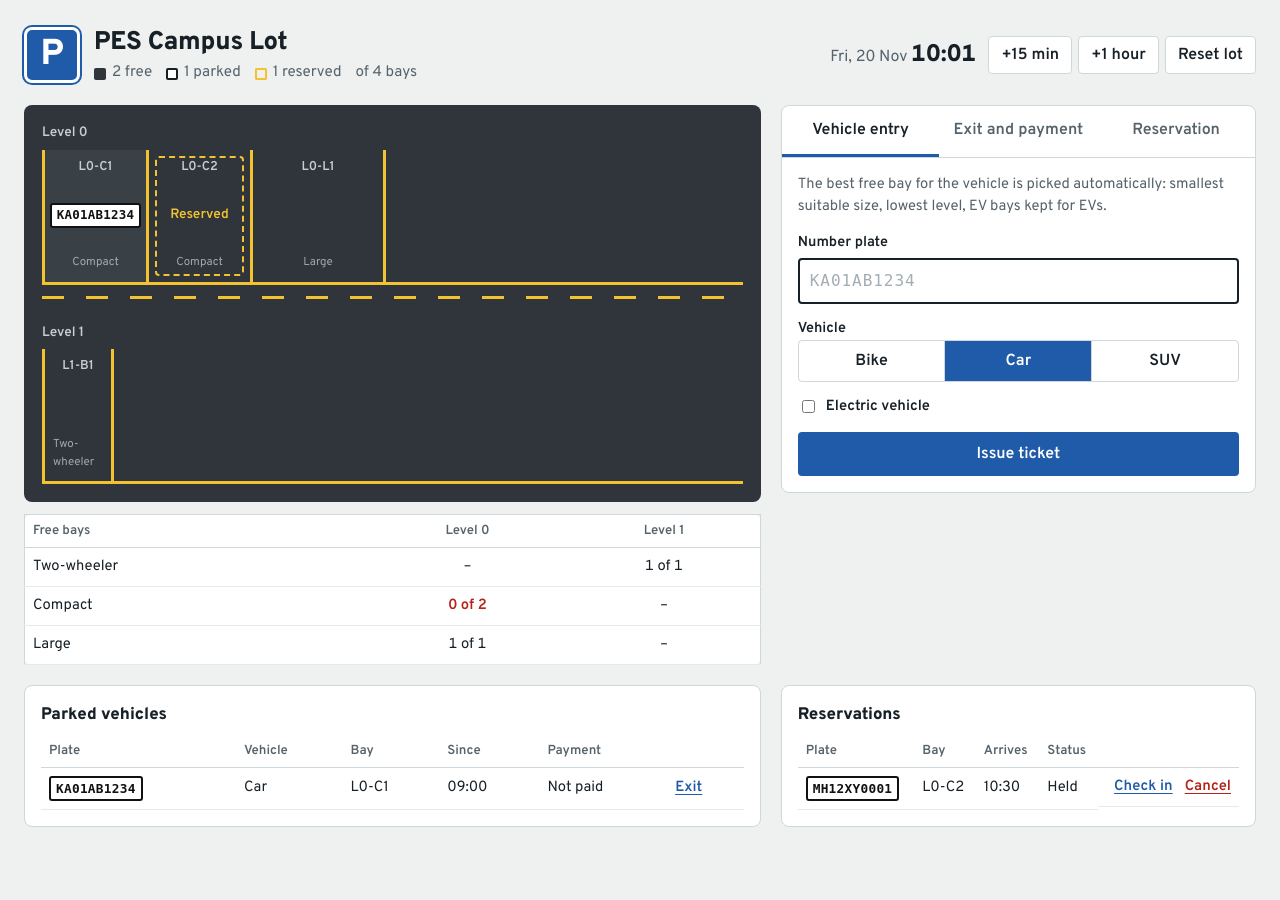
Test case: App › checks the fee, takes payment and opens the gate
The width and height of the screenshot is (1280, 900).
Step 1. Click the button with aria-label "L0-C1, Compact: occupied by KA01AB1234" → [94, 216], box [42,150,146,282]
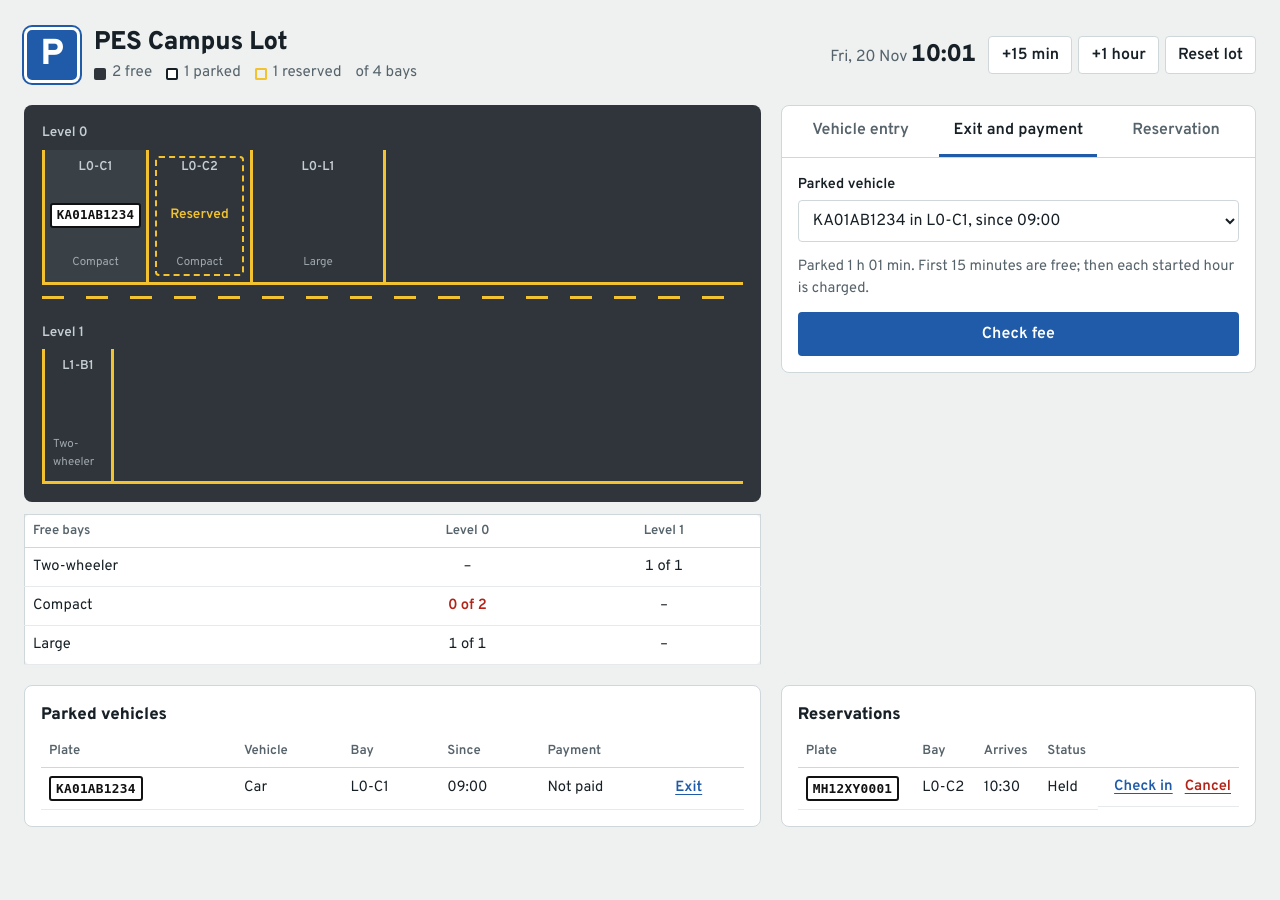
Step 2. Click the button "Check fee" → [1018, 334], box [798,312,1239,356]
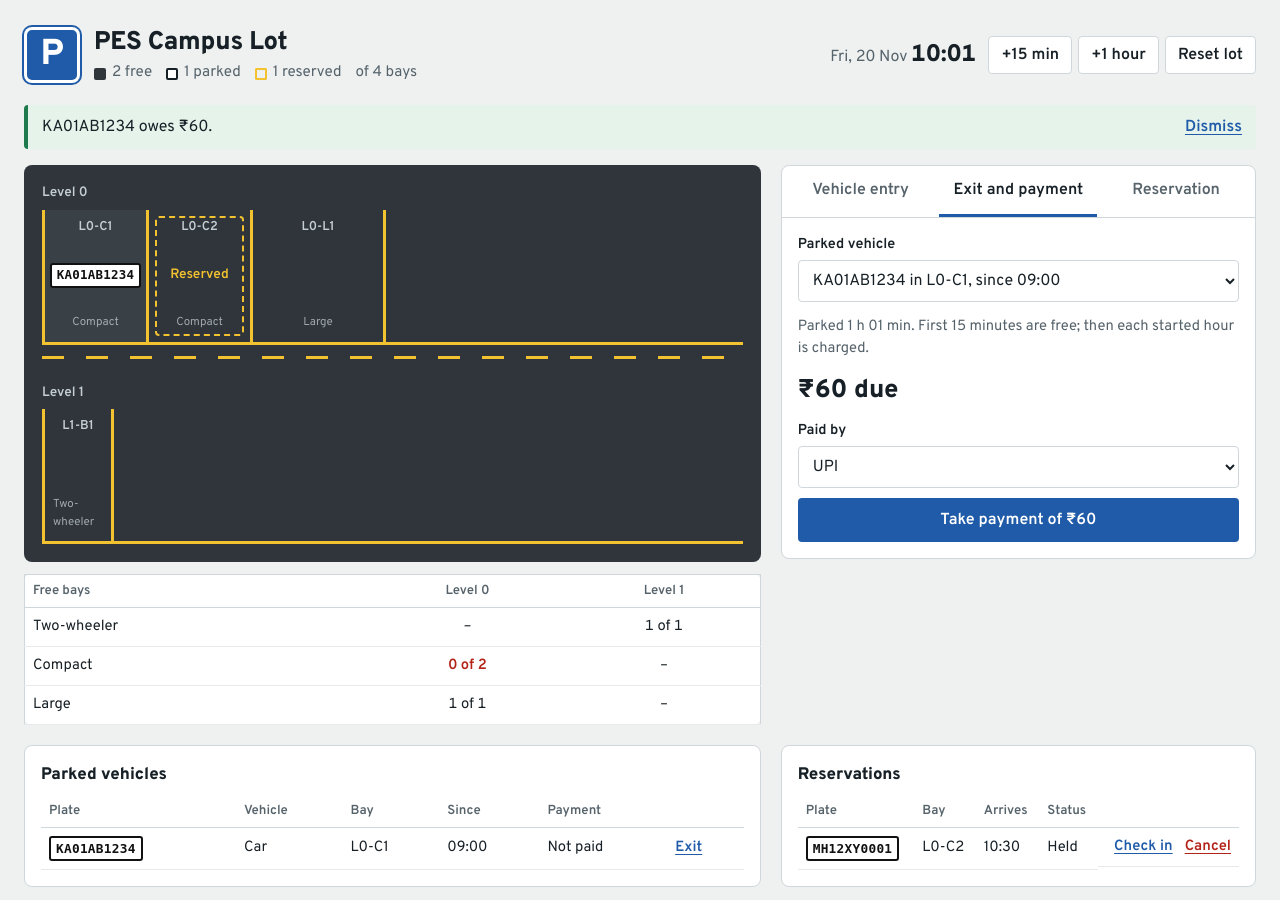
Step 3. Click the button "Take payment of ₹60" → [1018, 520], box [798,498,1239,542]
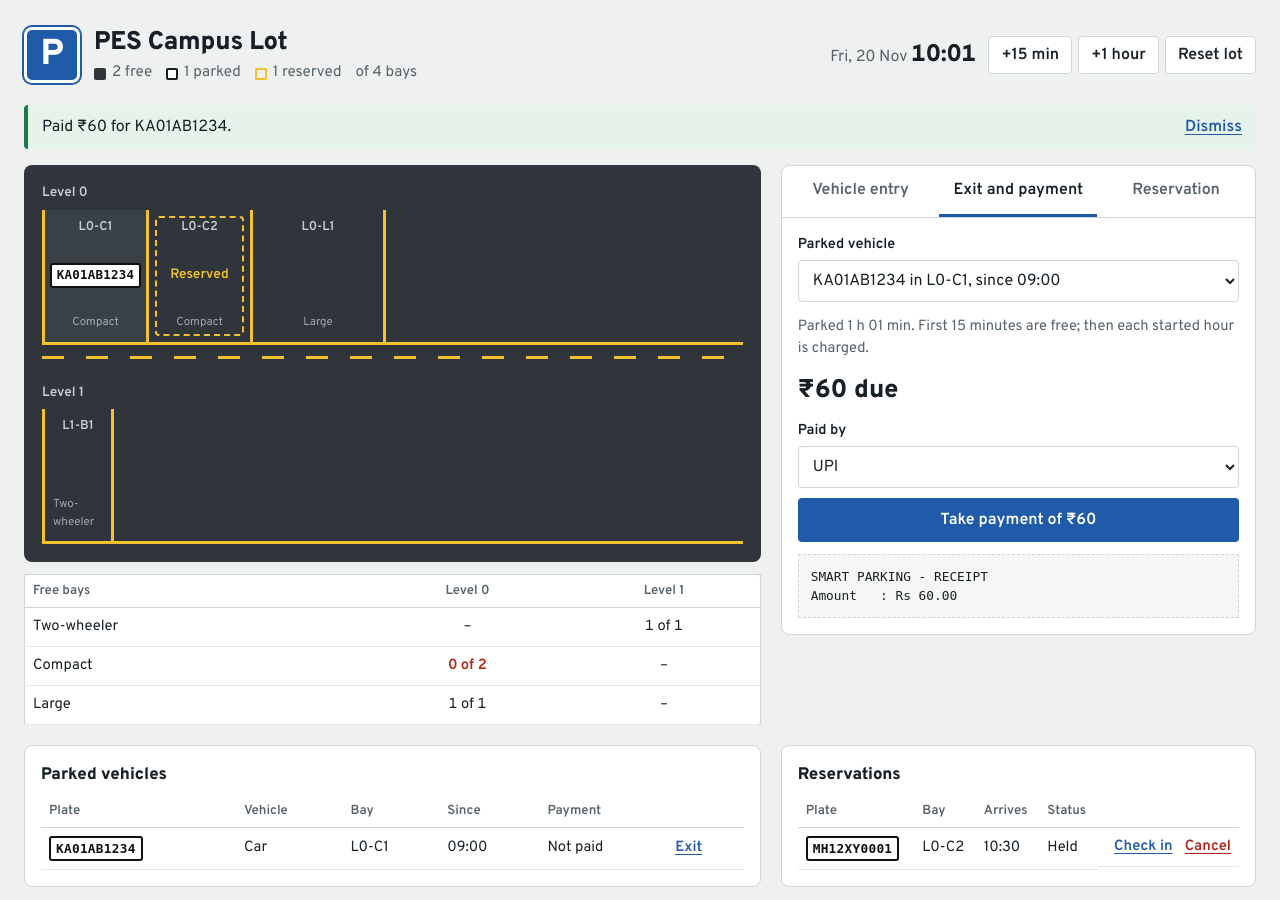
Result: the text labelled "RECEIPT" shows "Rs 60.00" at [811,569,988,603]
